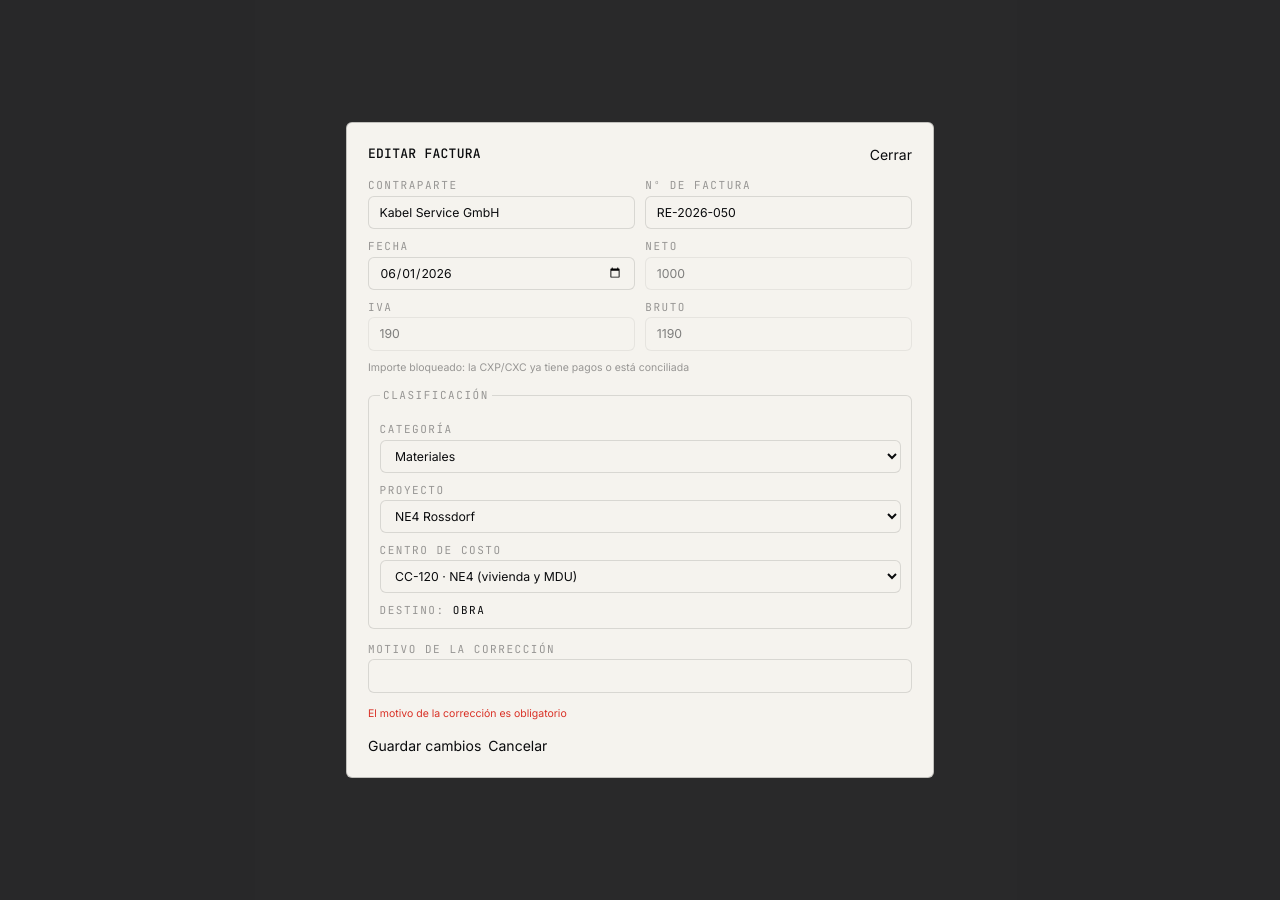
Test: InvoiceEditModal › lists a movement that would be skipped because it is linked to several obligations
In the field labelled "Motivo de la corrección": {"x": 640, "y": 676} left=368, top=659, right=912, bottom=693, type "Reclasificación"
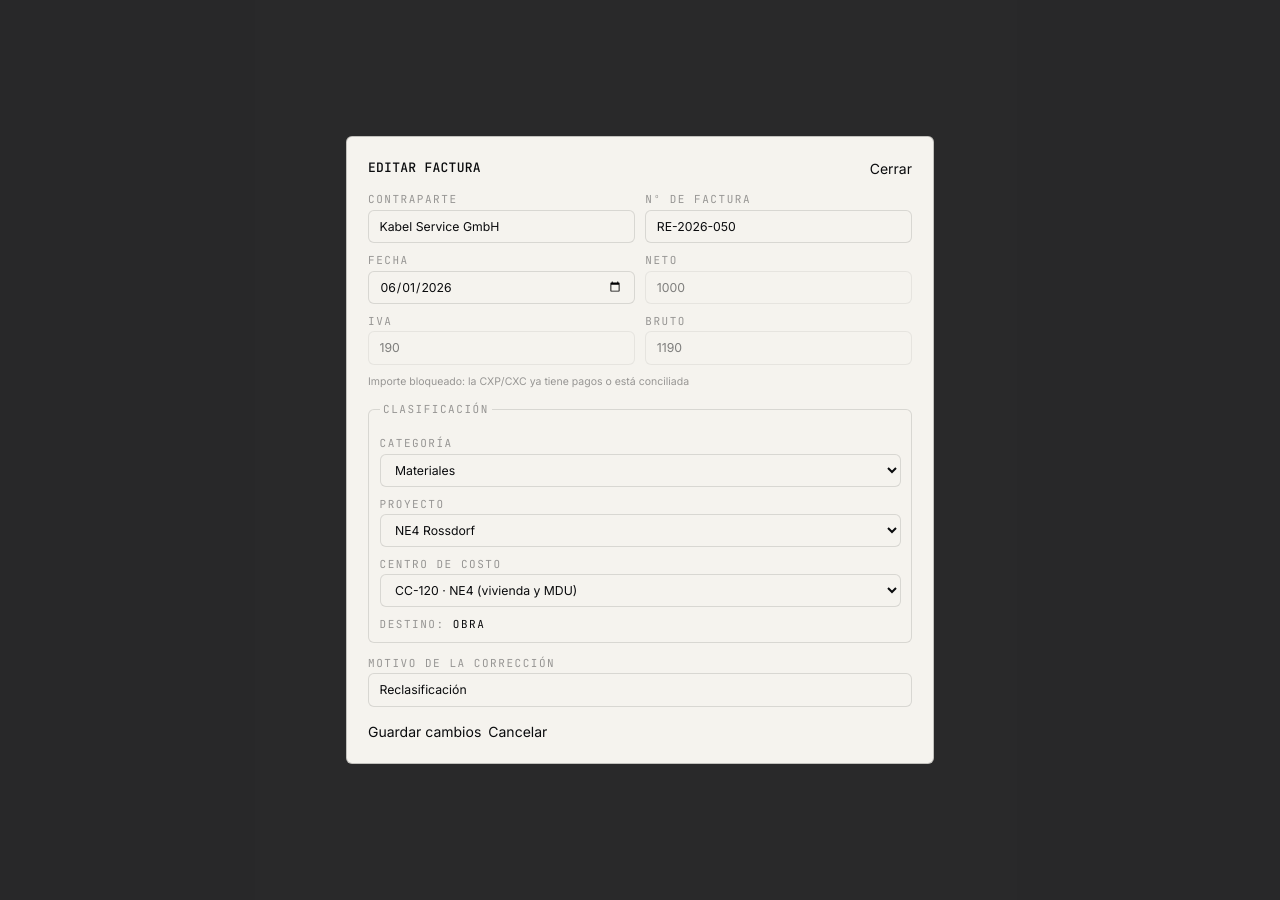
Select "CC-210 · Equipos, almacén y herramienta" in the dropdown labelled "Centro de costo": {"x": 640, "y": 591} left=380, top=574, right=900, bottom=608
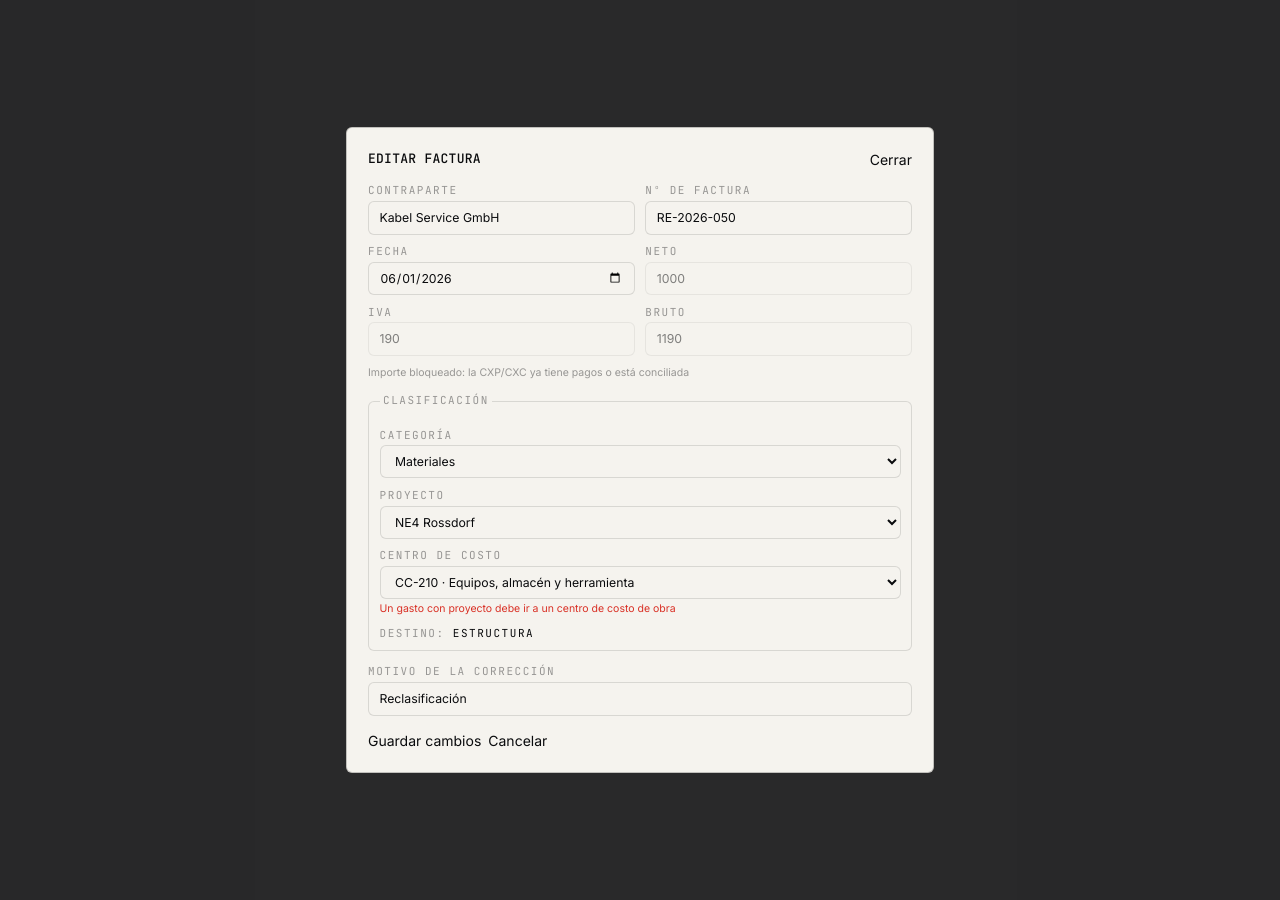
Select "Sin proyecto (estructura)" in the dropdown labelled "Proyecto": {"x": 640, "y": 522} left=380, top=506, right=900, bottom=538
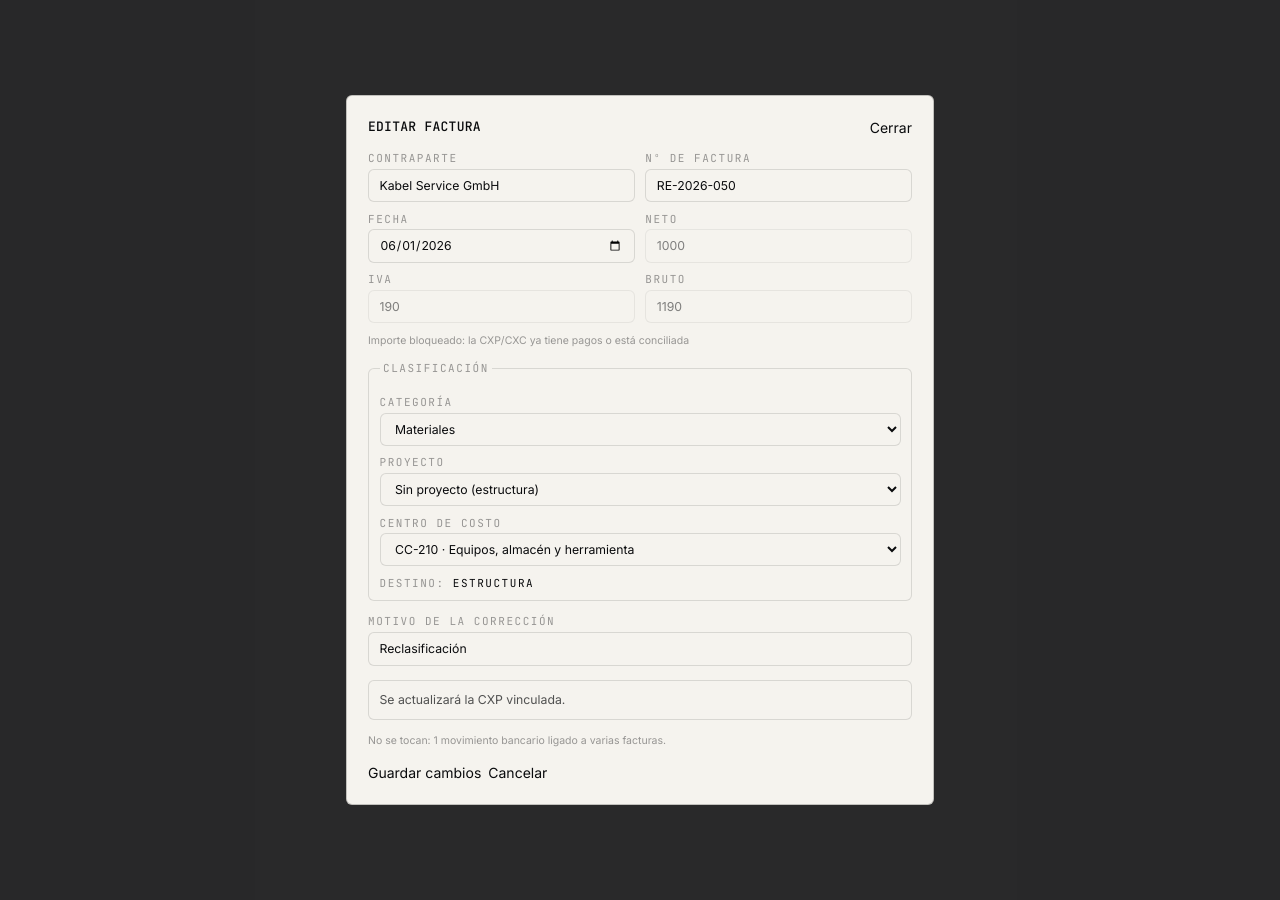
Now the text "No se tocan: 1 movimiento bancario ligado a varias facturas." is shown, box left=368, top=734, right=666, bottom=747
